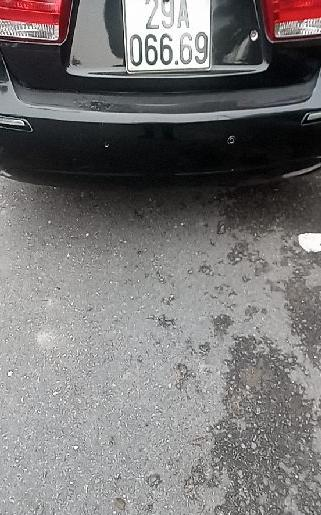Plate-iWeP: (125, 0, 211, 70)
